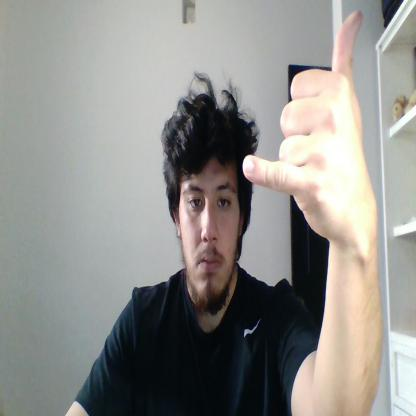Y: (243, 9, 377, 244)
